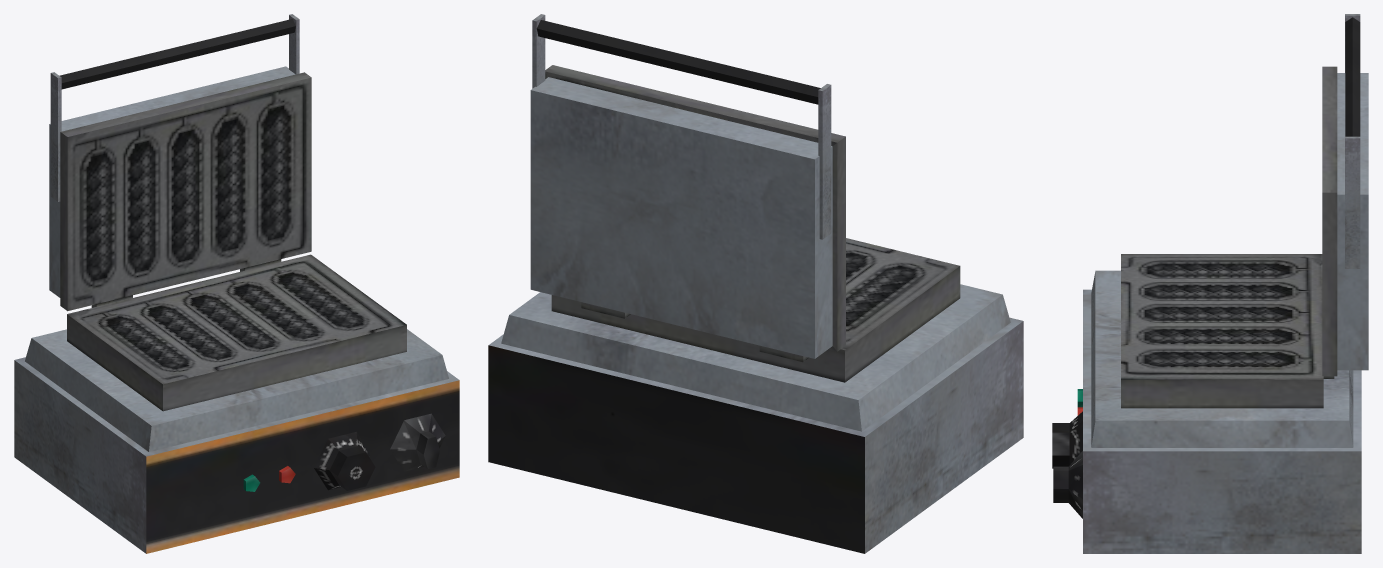
Rendered from Waffle_Machine.dae.
3 renders of one model, left to right at view 1: azimuth 30°, elevation 25°; view 2: azimuth 150°, elevation 25°; view 3: azimuth 270°, elevation 25°, orthographic. The views are drawn at different scales.
Visible parts, largest first — view 1: Waffle_Machine, Waffle_Machine_Top; view 2: Waffle_Machine, Waffle_Machine_Top; view 3: Waffle_Machine, Waffle_Machine_Top.
Boxes of the visible parts, x1,y1,x2,y2 form: Waffle_Machine: (14,254,459,553); Waffle_Machine_Top: (49,14,311,311); Waffle_Machine: (488,238,1023,553); Waffle_Machine_Top: (530,14,845,362); Waffle_Machine: (1052,254,1361,553); Waffle_Machine_Top: (1322,14,1368,378).
Size of the model in its own units: 0.6688 by 0.5536 by 0.767.
1 material, 1 textured.
